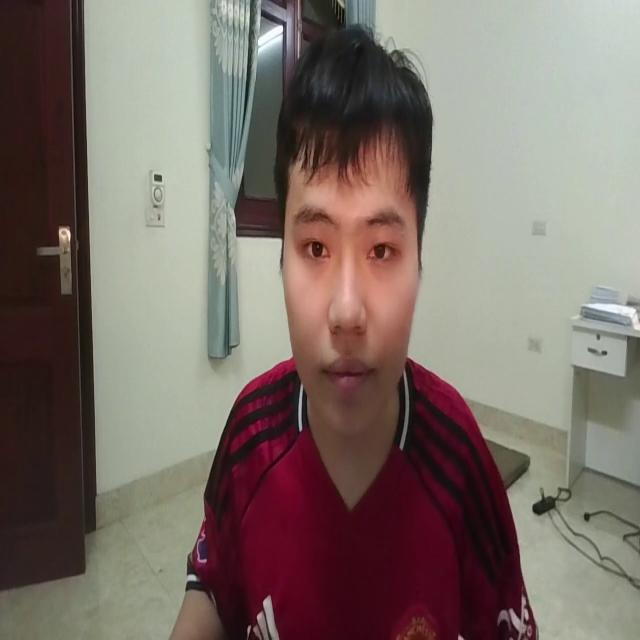student: (172, 28, 530, 640)
